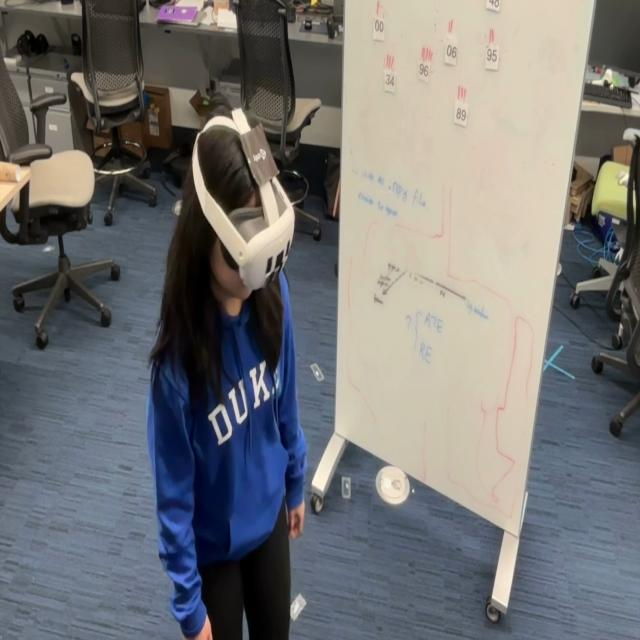Headset: (190, 108, 296, 291)
UnityLogo: (242, 122, 278, 186)
